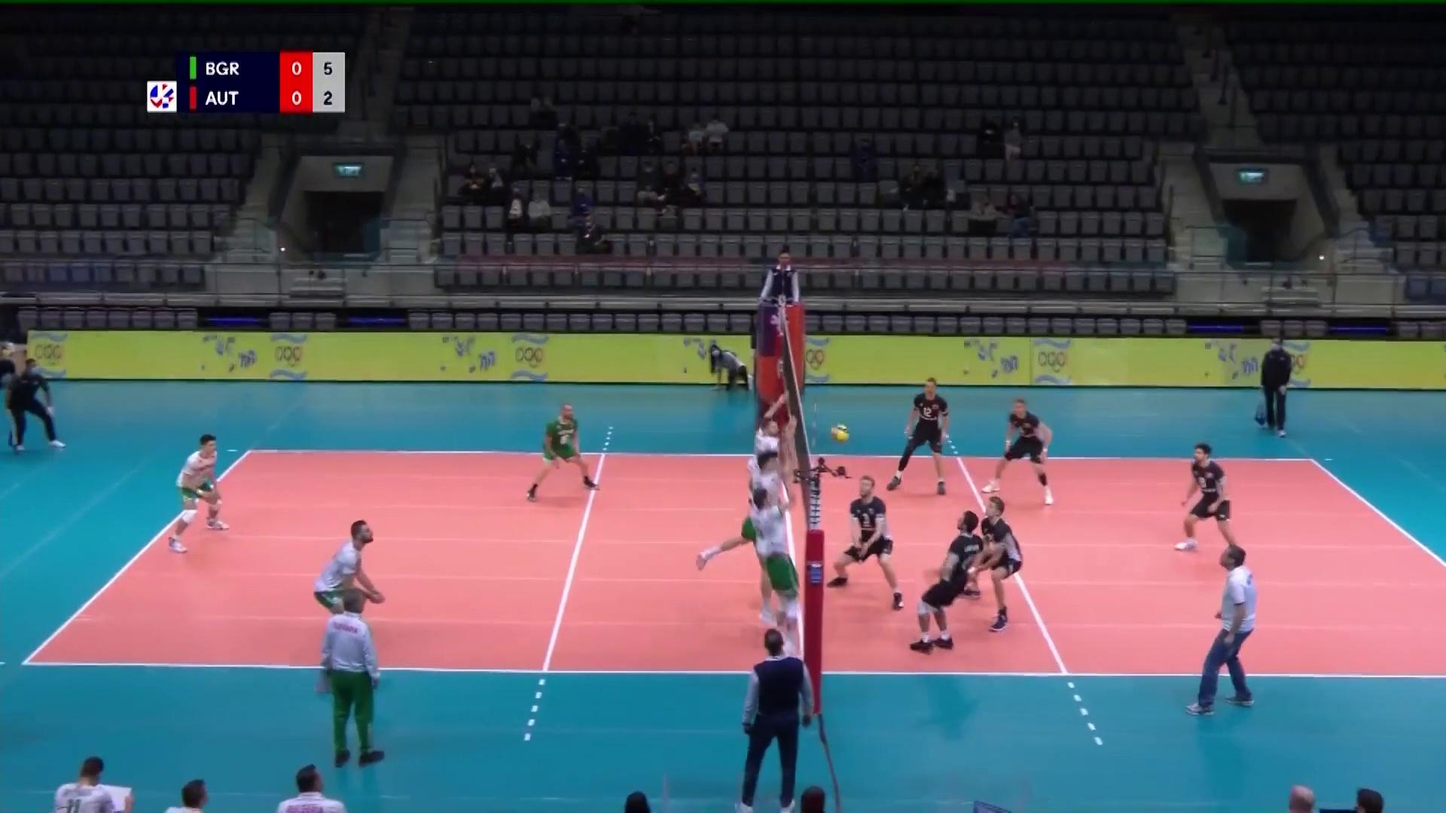ball: (830, 423, 851, 442)
